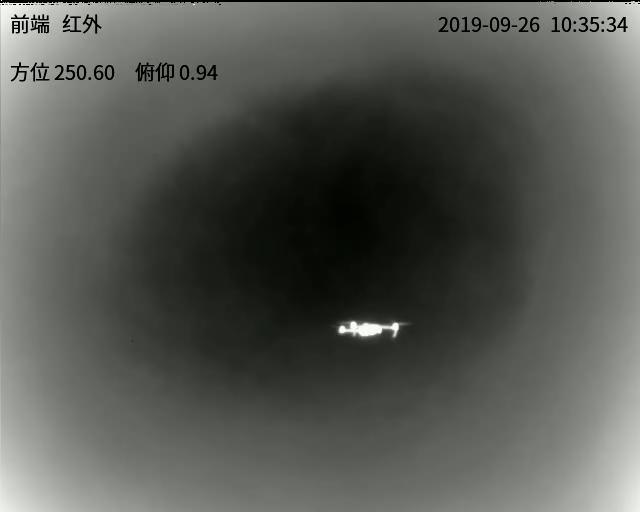uav: (333, 314, 409, 344)
